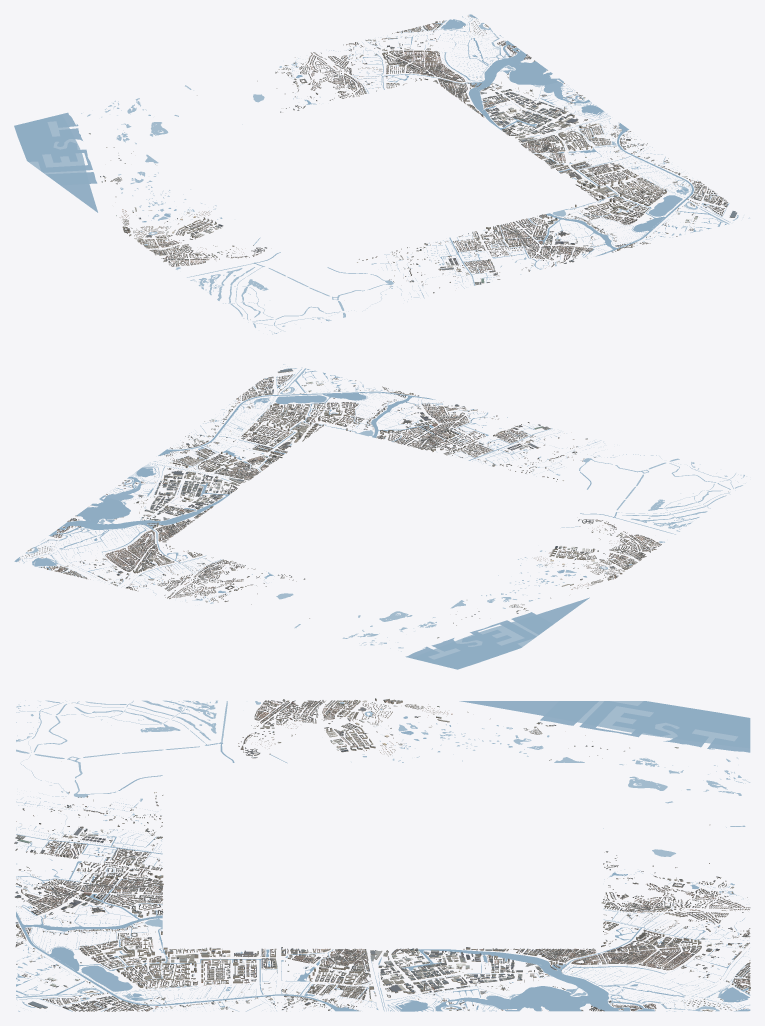
The model's file is context_outer_objects.glb.
The picture shows the model from 3 angles, top to bottom: view 1: azimuth 30°, elevation 25°; view 2: azimuth 150°, elevation 25°; view 3: azimuth 270°, elevation 25°; orthographic projection. The views are drawn at different scales.
Parts seen in each view (by area): view 1: buiten_gebouwen, buiten_water; view 2: buiten_gebouwen, buiten_water; view 3: buiten_gebouwen, buiten_water.
Part boxes in pixels (x1,y1,x2,y2): buiten_gebouwen: [89, 16, 736, 319]; buiten_water: [14, 14, 749, 334]; buiten_gebouwen: [19, 368, 728, 638]; buiten_water: [14, 364, 746, 669]; buiten_gebouwen: [14, 698, 750, 1011]; buiten_water: [16, 700, 750, 1011].
Bounding box in the file's own units: 10041 × 118 × 10037.
